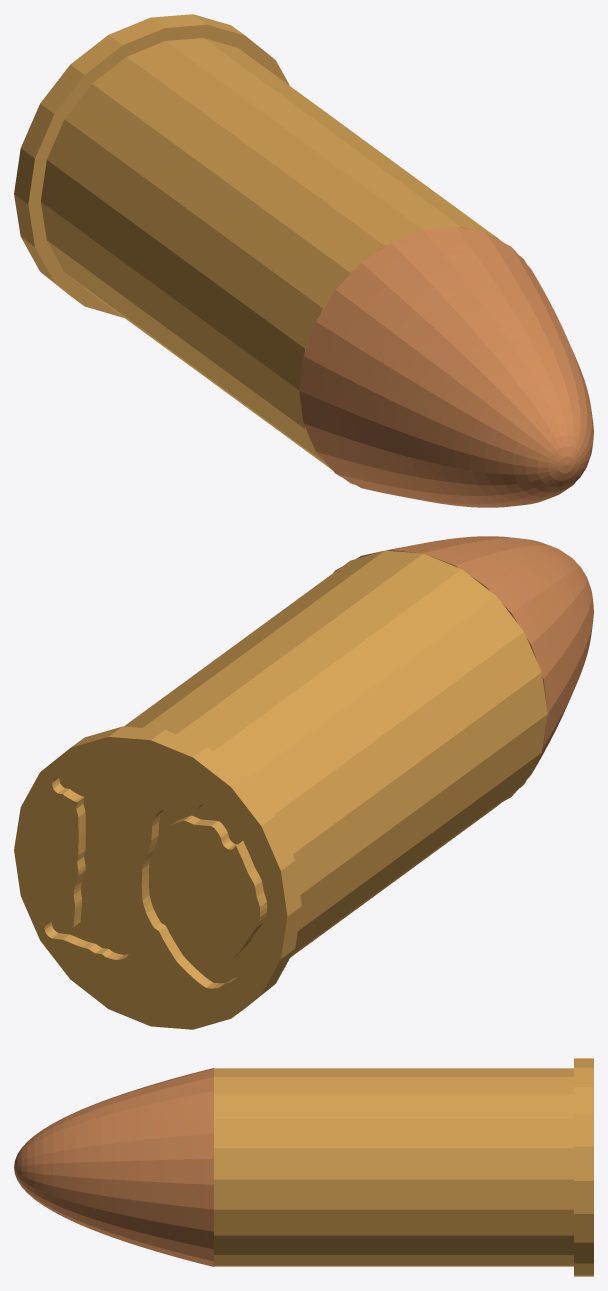
File: Copy of bullet.glb
The picture shows the model from 3 angles, top to bottom: view 1: azimuth 30°, elevation 25°; view 2: azimuth 150°, elevation 25°; view 3: azimuth 270°, elevation 25°; orthographic projection. The views are drawn at different scales.
Visible parts, largest first — view 1: Mesh_Mesh_head_geo.001_lambert2SG.001; view 2: Mesh_Mesh_head_geo.001_lambert2SG.001; view 3: Mesh_Mesh_head_geo.001_lambert2SG.001.
Part boxes in pixels (x1,y1,x2,y2): Mesh_Mesh_head_geo.001_lambert2SG.001: (14,14,593,507); Mesh_Mesh_head_geo.001_lambert2SG.001: (14,536,593,1029); Mesh_Mesh_head_geo.001_lambert2SG.001: (14,1058,593,1276).
Bounding box in the file's own units: 22 × 22 × 58.
